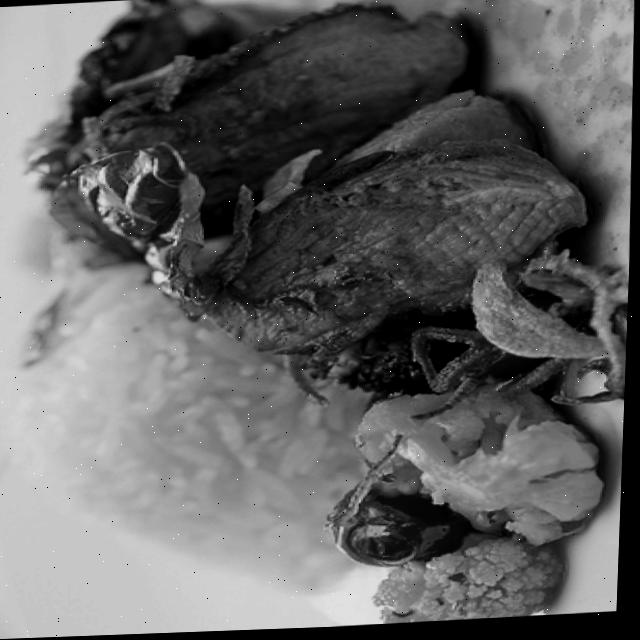米饭主食: (0, 0, 601, 633)
